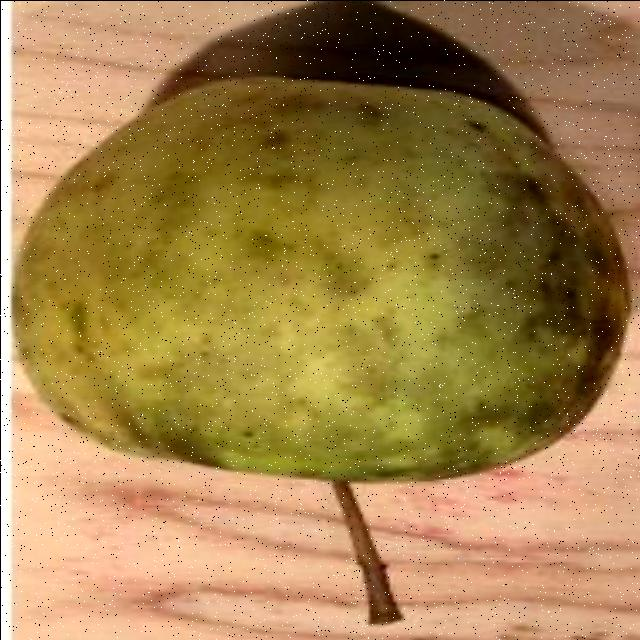BLOTCH: (8, 57, 624, 510)
